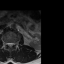CCS_normal: (9, 40, 11, 49)
LFS_normal: (13, 41, 15, 47)
LLS_normal: (11, 41, 13, 48)
RFS_normal: (5, 40, 7, 47)
RLS_normal: (7, 41, 9, 48)
